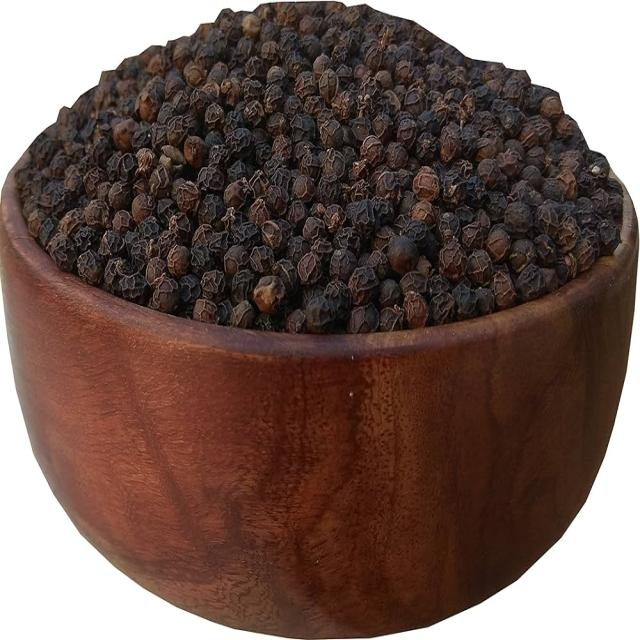Black pepper: (9, 6, 634, 320)
